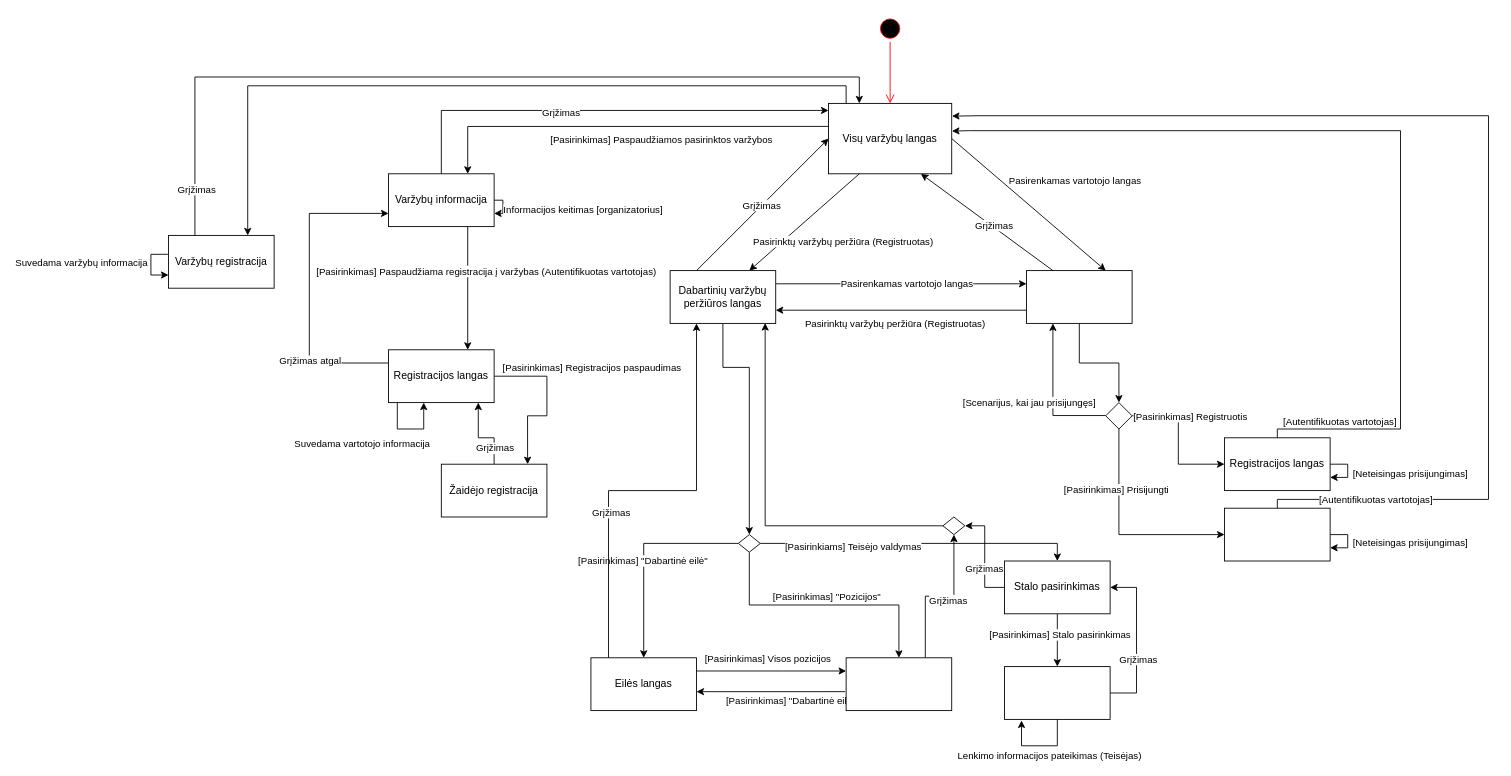
Image size: 1511x776. Some labels were removed from this diagram. Each missing label, with the centre of its shape:
Lenkimo sesijos valdymo langas: point 1057,692
Prisijungimo langas: point 1277,534
Vartotojo langas: point 1079,296
Visų pozicijų langas: point 898,684
